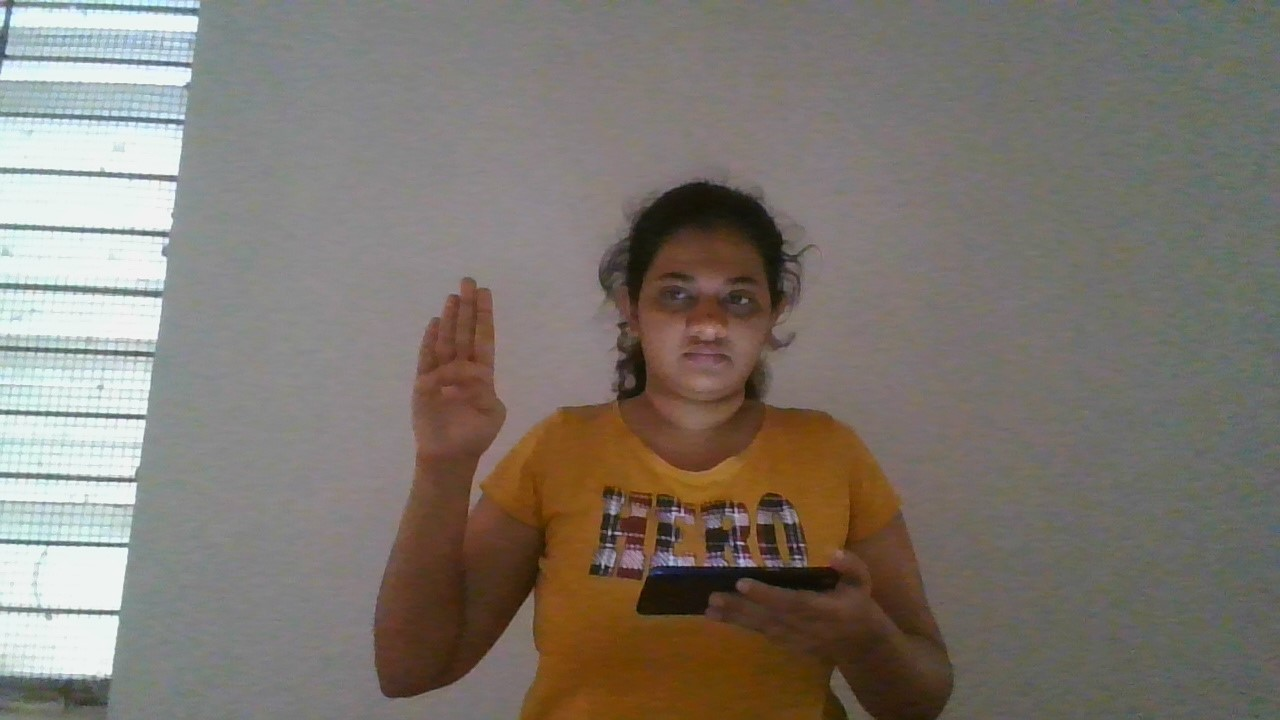b: (388, 272, 522, 479)
